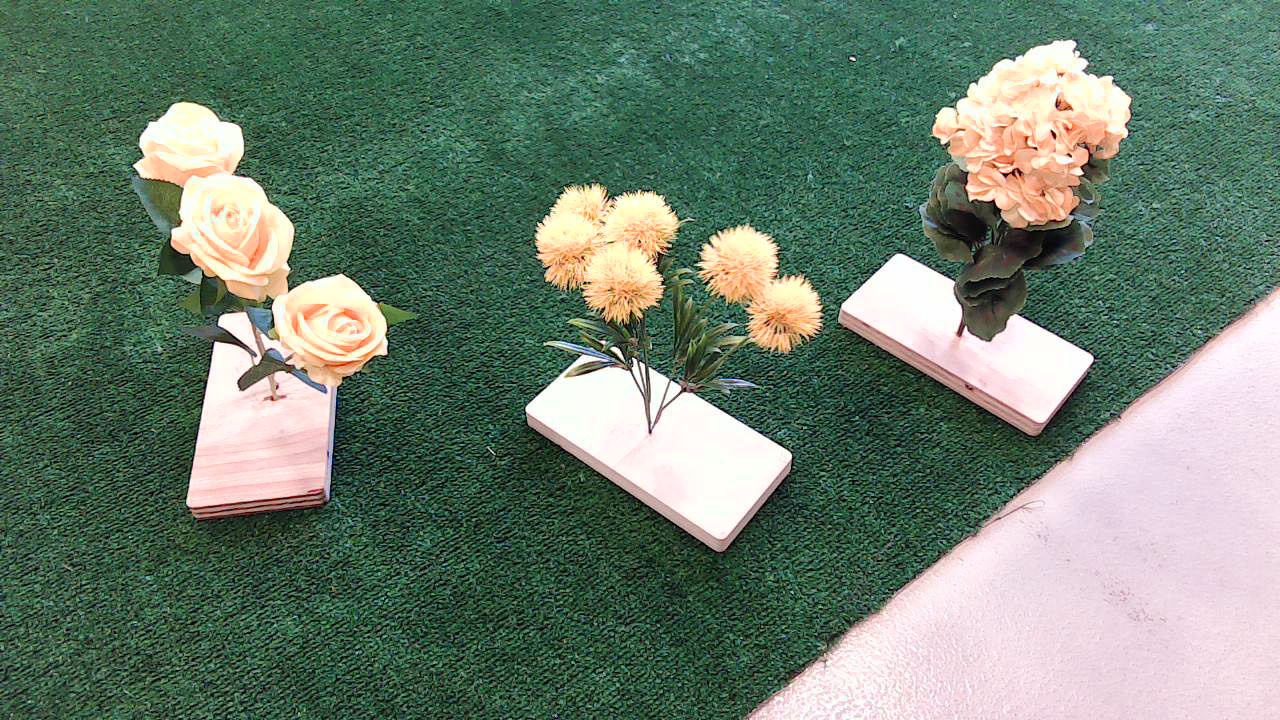dandelion: (515, 181, 837, 416)
geranium: (910, 28, 1145, 366)
rose: (90, 92, 433, 400)
